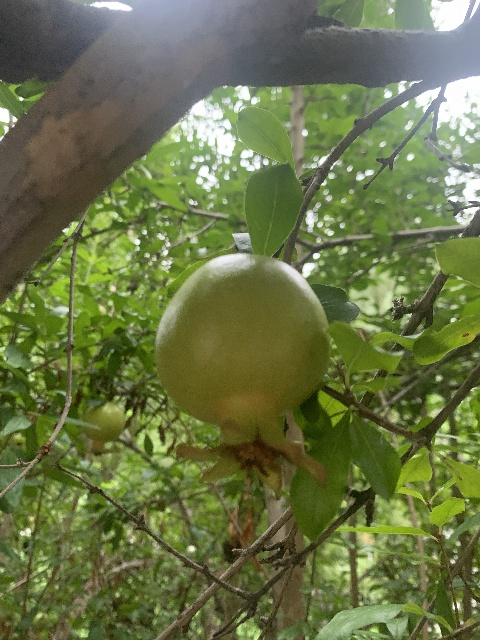mid-growth: (154, 252, 333, 498), (77, 401, 125, 455)
